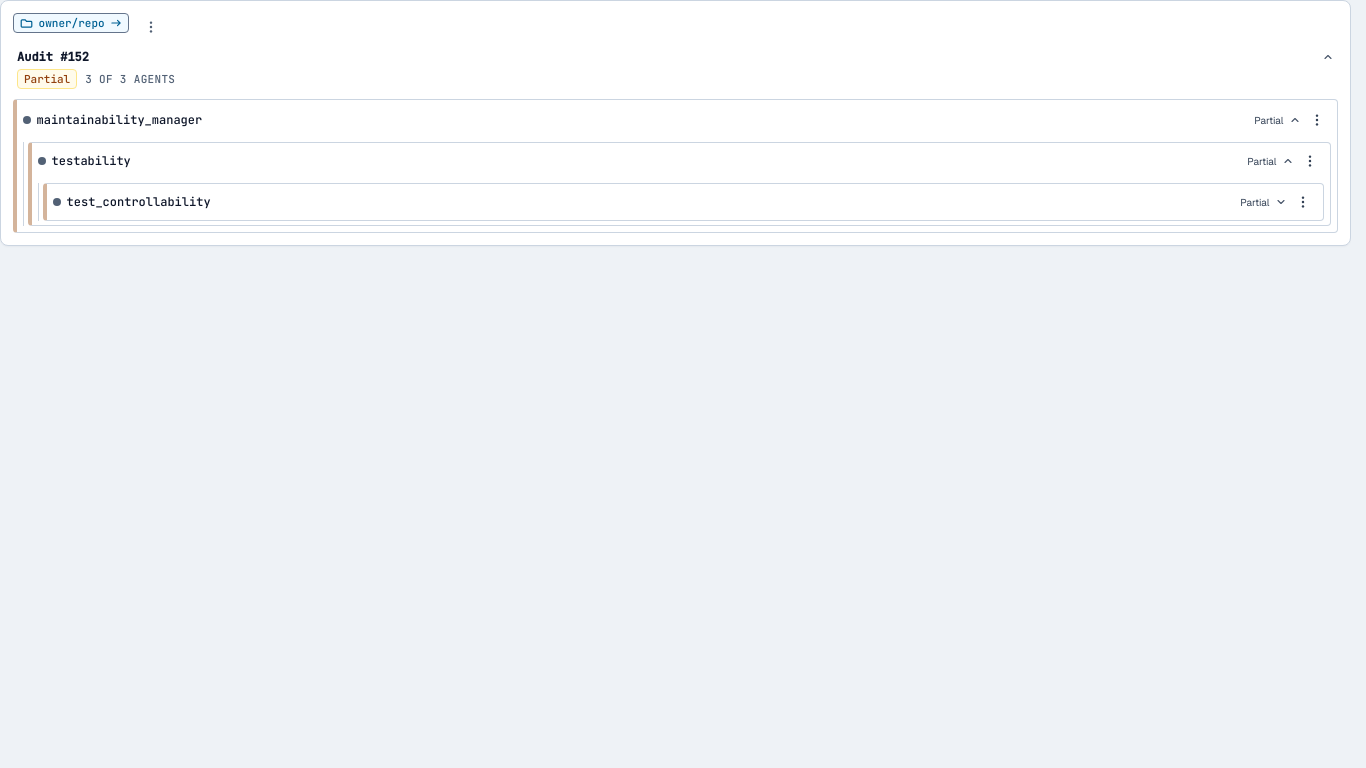
Test case: reports an empty outcome when no actionable incidents exist
Click the button named "View reason" at coordinates (151, 27), box [137,13,165,41]
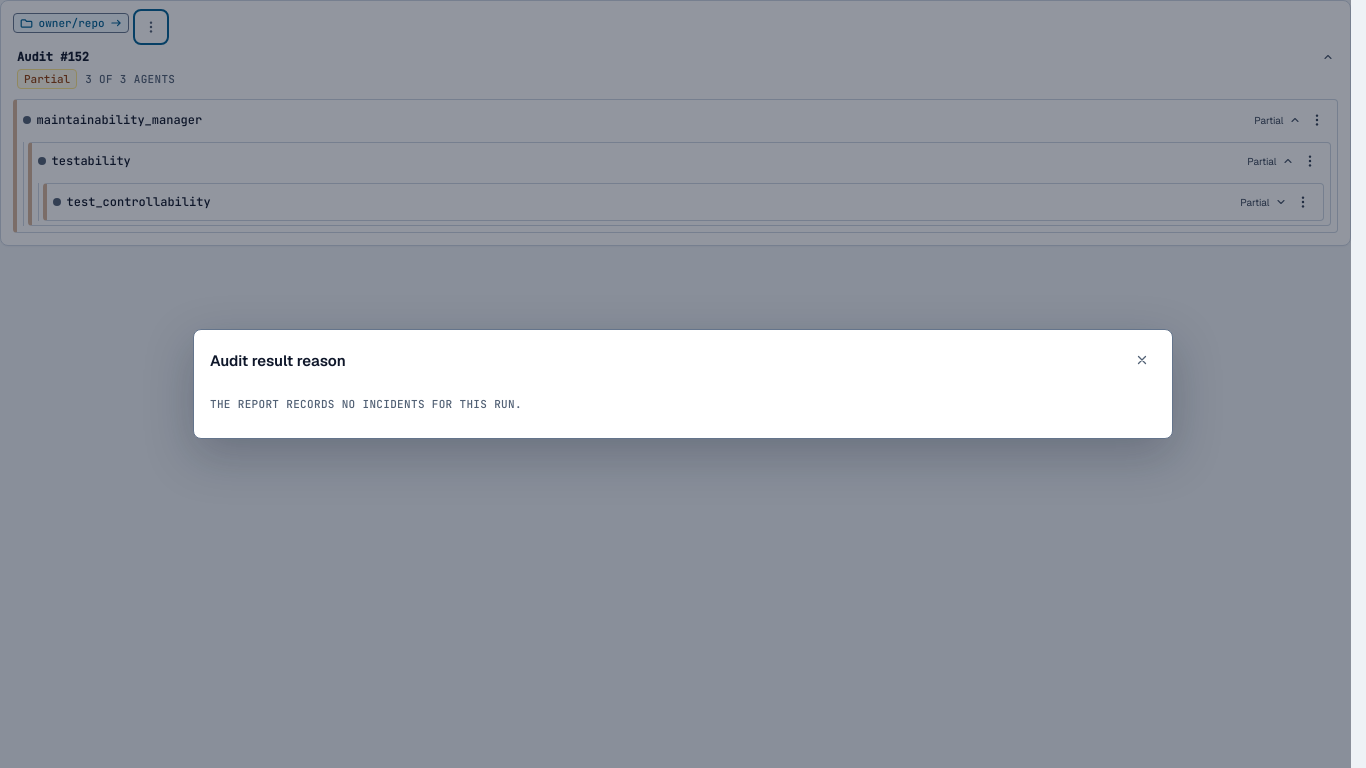
Check: the text "The report records no incidents for this run." is shown, box [210,397,522,411]
